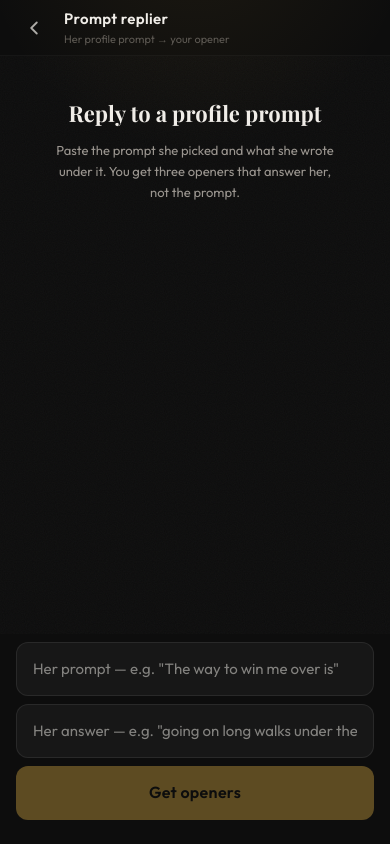
Test: PromptReplierScreen › submits the prompt and the answer as separate fields
This screenshot has width=390, height=844.
Type "The way to win me over is" into the field labelled "Her prompt".
click(195, 669); type("The way to win me over is")  # box [16,642,374,696]
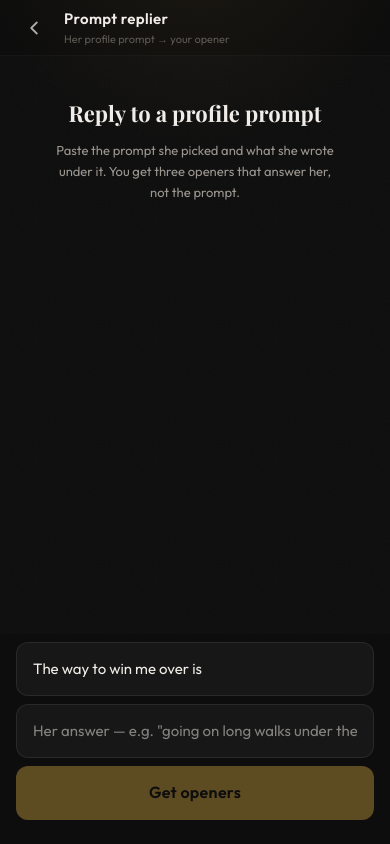
Replace the text in the field labelled "Her answer" with "going on long walks under the Bougainville trees" at (195, 731), box [16,704,374,758]
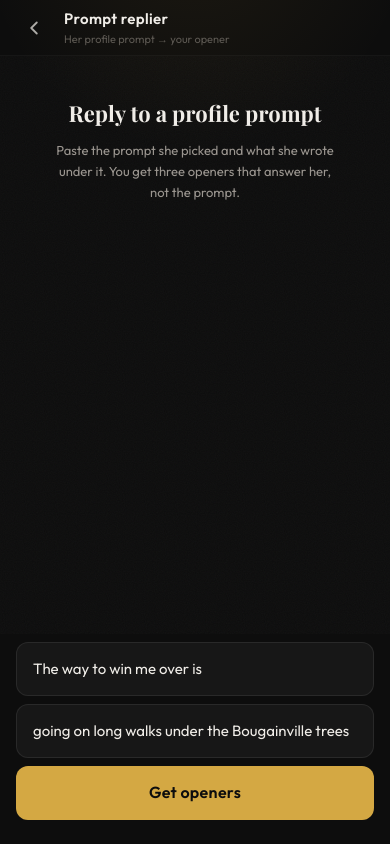
Click the button "Get openers".
click(195, 793)  # box [16,766,374,820]
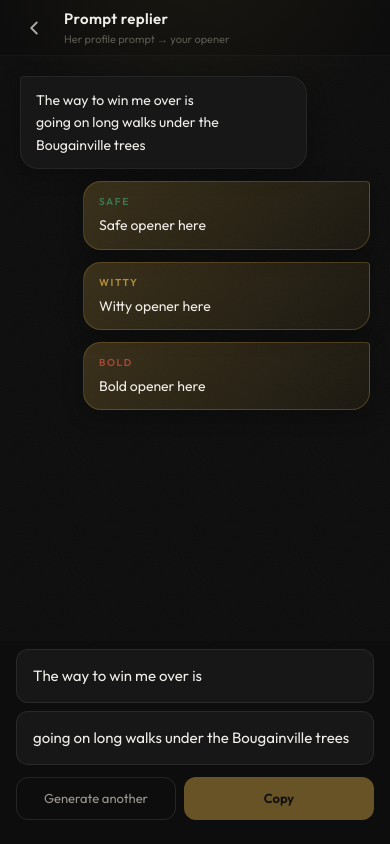
Result: the text "Safe opener here" is shown at [99,216,206,234]
